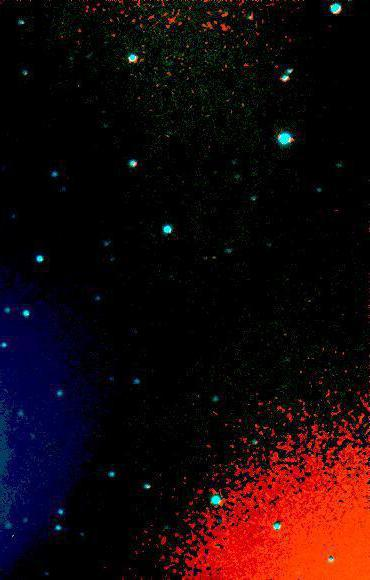star: (200, 246, 230, 276)
